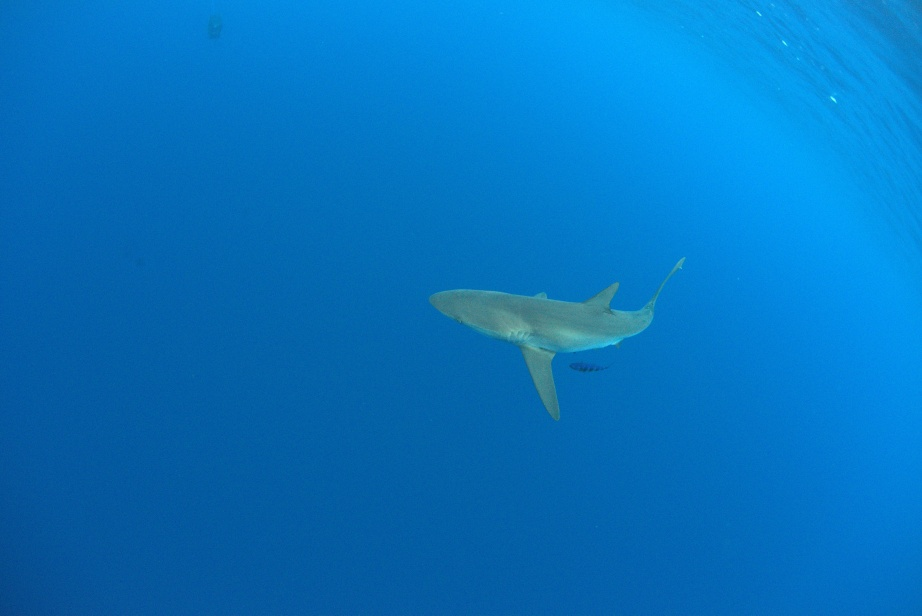Sedoso: (387, 237, 707, 427)
